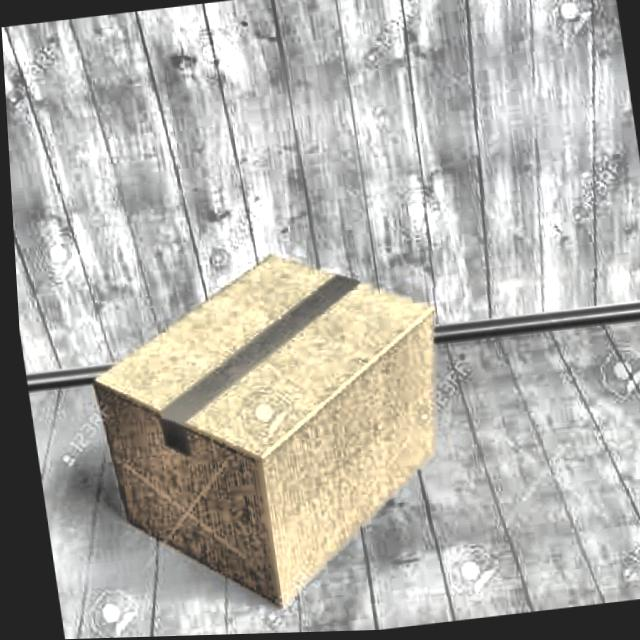Cardbox: (69, 228, 500, 628)
